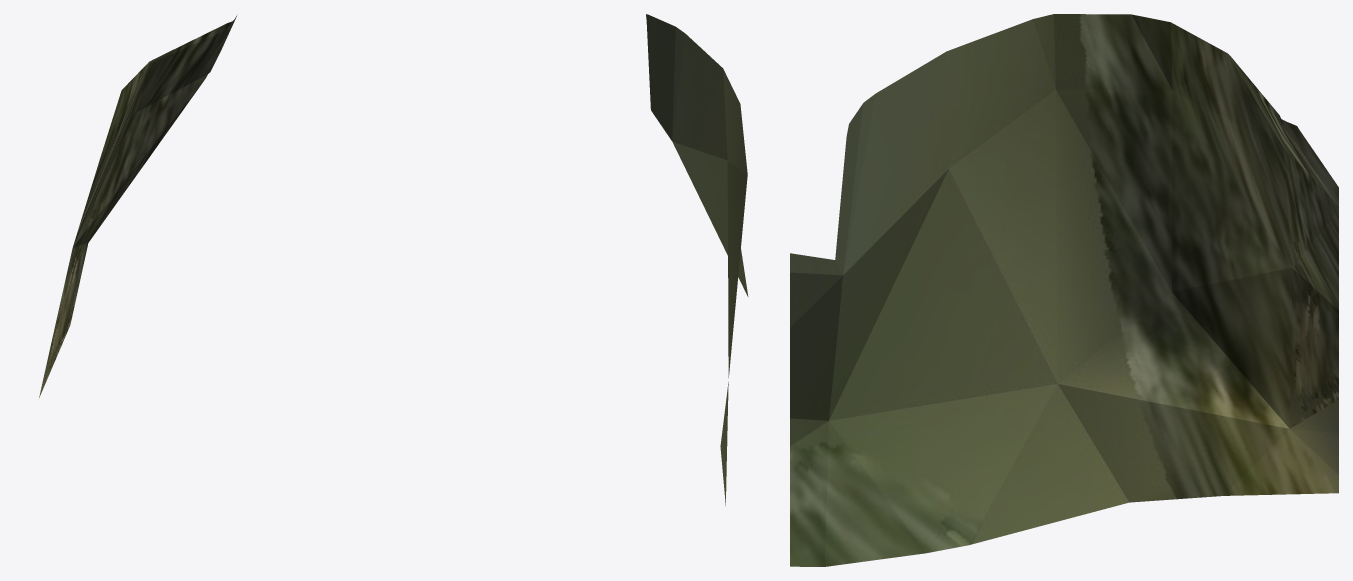
The picture shows the model from 3 angles, left to right: view 1: azimuth 30°, elevation 25°; view 2: azimuth 150°, elevation 25°; view 3: azimuth 270°, elevation 25°; orthographic projection. The views are drawn at different scales.
Bounding box in the file's own units: 1.66 × 2.95 × 2.95.
Materials: 3 (3 with a texture image).
